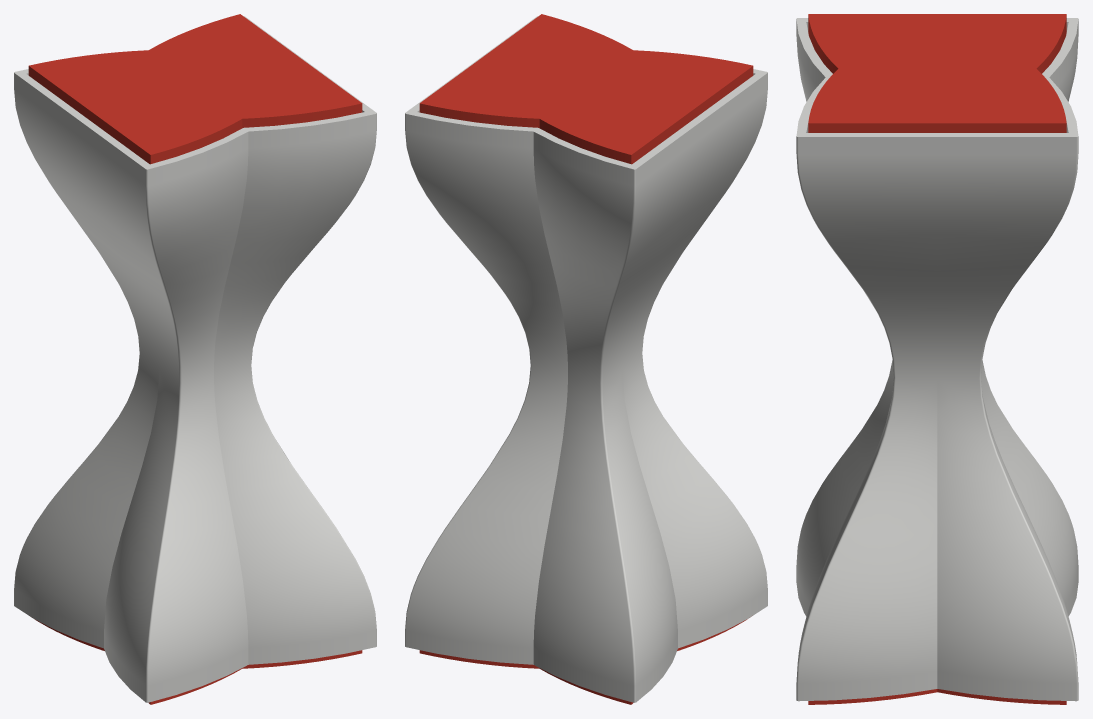
Rendered from HOUR-GLASS-MOON-TANGENT5 v0.fbx.
3 renders of one model, left to right at view 1: azimuth 30°, elevation 25°; view 2: azimuth 150°, elevation 25°; view 3: azimuth 270°, elevation 25°, orthographic. The views are drawn at different scales.
Visible parts, largest first — view 1: Body1, Body3, Body2; view 2: Body1, Body3, Body2; view 3: Body1, Body3, Body2.
Boxes of the visible parts, x1=… form: Body1: x1=14, y1=16, x2=376, y2=702; Body3: x1=28, y1=14, x2=362, y2=164; Body2: x1=34, y1=619, x2=362, y2=704; Body1: x1=405, y1=16, x2=767, y2=702; Body3: x1=419, y1=14, x2=753, y2=164; Body2: x1=419, y1=619, x2=747, y2=704; Body1: x1=796, y1=18, x2=1078, y2=701; Body3: x1=808, y1=14, x2=1066, y2=132; Body2: x1=808, y1=689, x2=1066, y2=704.
Size of the model in its own units: 29 by 66 by 29.
